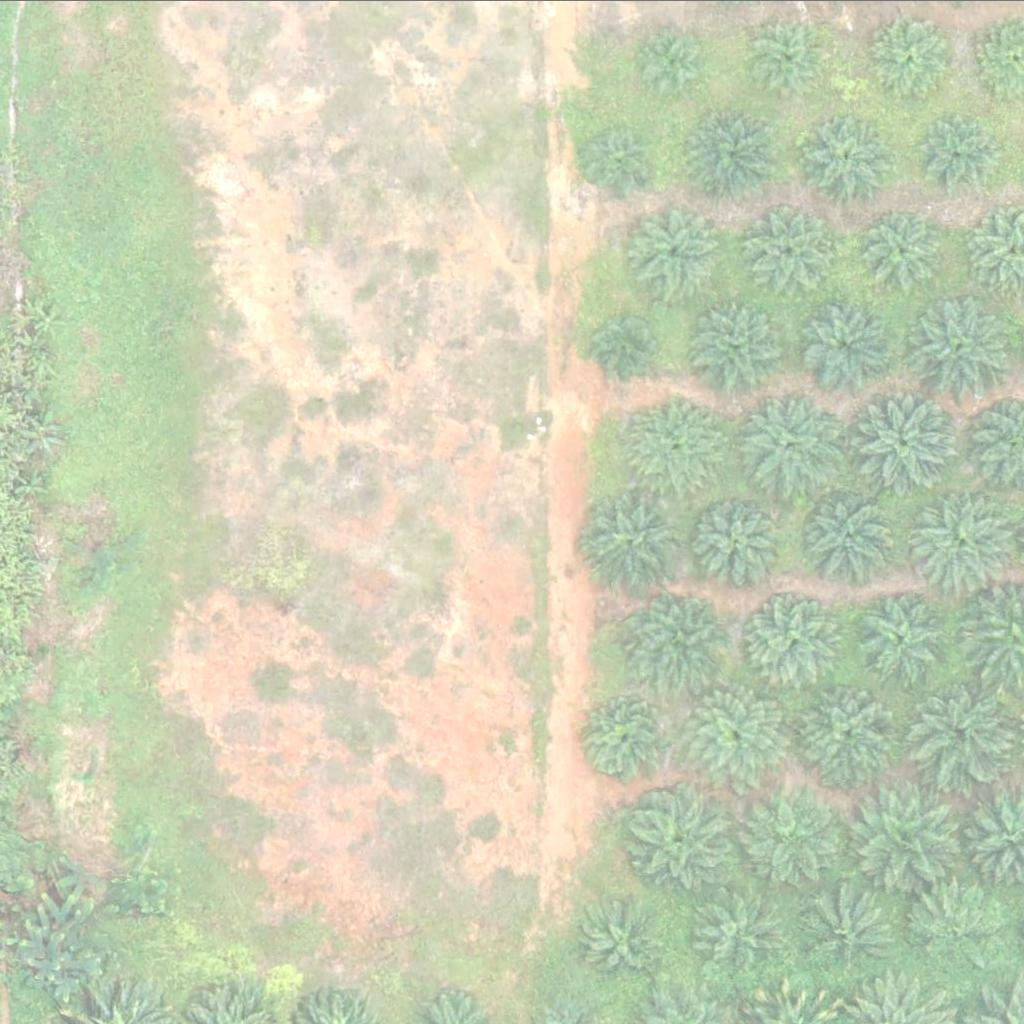Kelapa_Sawit: (681, 676, 795, 789), (793, 672, 907, 785), (904, 288, 1017, 401), (907, 486, 1021, 598), (851, 775, 964, 887), (908, 673, 1021, 785), (578, 482, 691, 594), (848, 382, 961, 494), (633, 586, 734, 686), (692, 485, 793, 585), (798, 483, 899, 583), (630, 392, 731, 492), (736, 390, 837, 490), (688, 296, 789, 396), (796, 293, 897, 393), (626, 199, 727, 299), (633, 790, 733, 890), (743, 777, 843, 877), (742, 586, 842, 686), (853, 583, 953, 683), (750, 203, 839, 291), (578, 895, 666, 983), (808, 884, 896, 972), (693, 109, 781, 197), (806, 112, 894, 200), (872, 10, 960, 98), (698, 880, 786, 967), (912, 881, 1000, 968), (581, 695, 669, 782), (864, 207, 952, 294), (756, 20, 831, 95), (924, 116, 999, 191), (589, 127, 652, 190), (636, 30, 699, 93), (591, 310, 654, 373)
